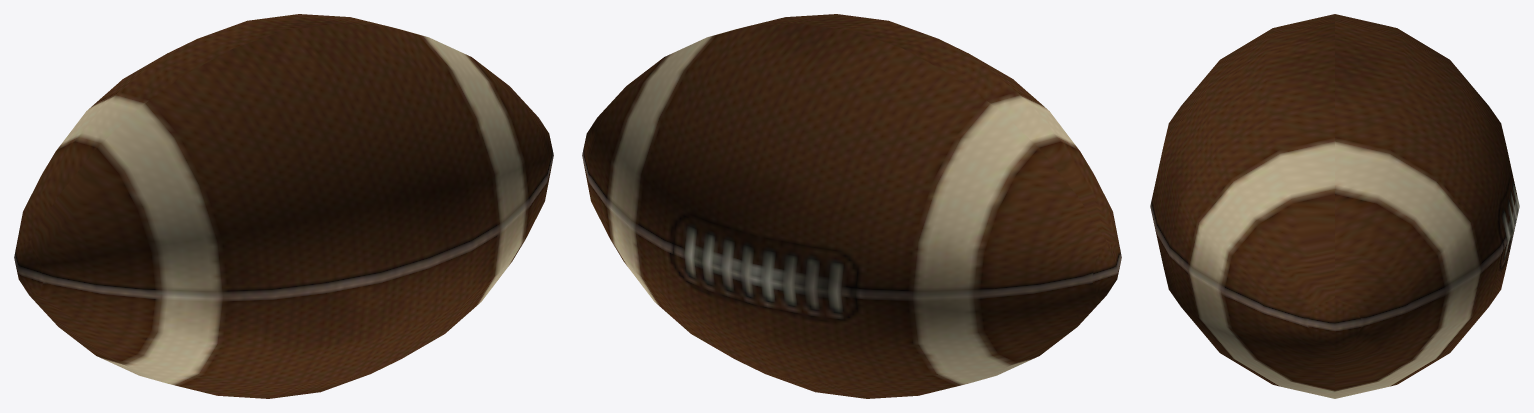
The model's file is saveicon.ico.obj.
3 renders of one model, left to right at view 1: azimuth 30°, elevation 25°; view 2: azimuth 150°, elevation 25°; view 3: azimuth 270°, elevation 25°, orthographic. The views are drawn at different scales.
Size of the model in its own units: 4.37 by 2.76 by 2.79.
Materials: 1 (1 with a texture image).
